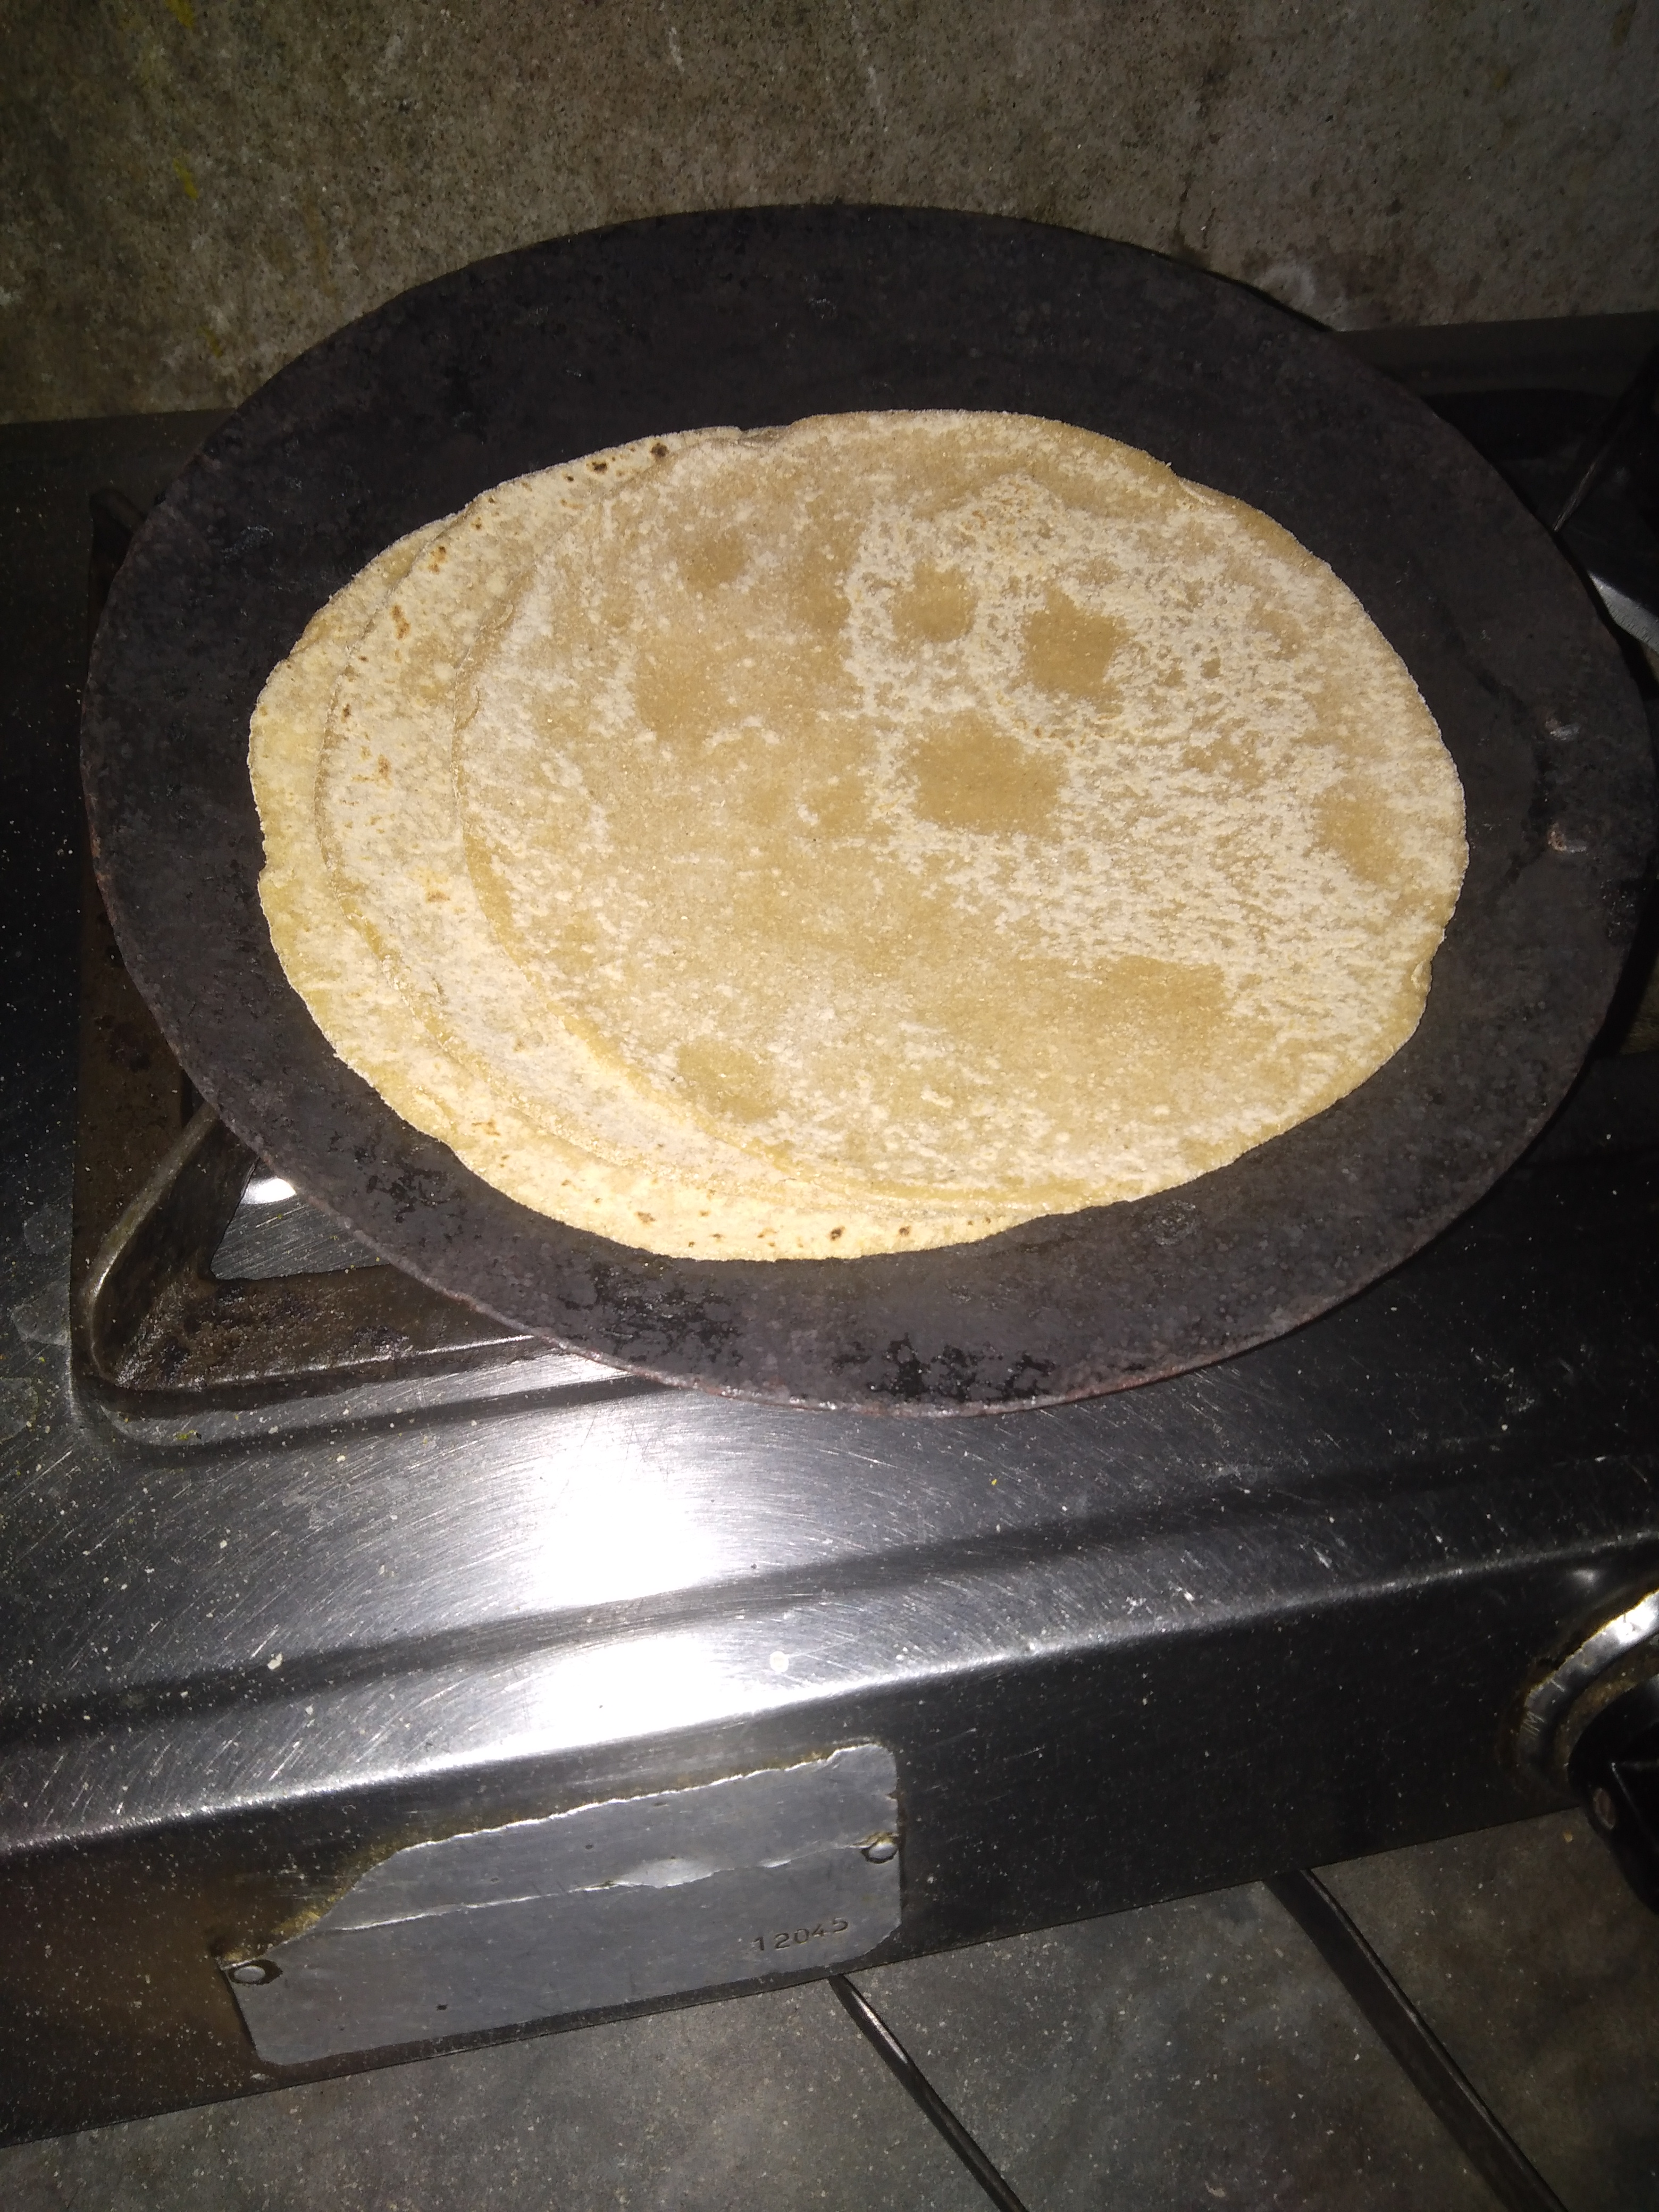food: (235, 392, 1480, 1275)
